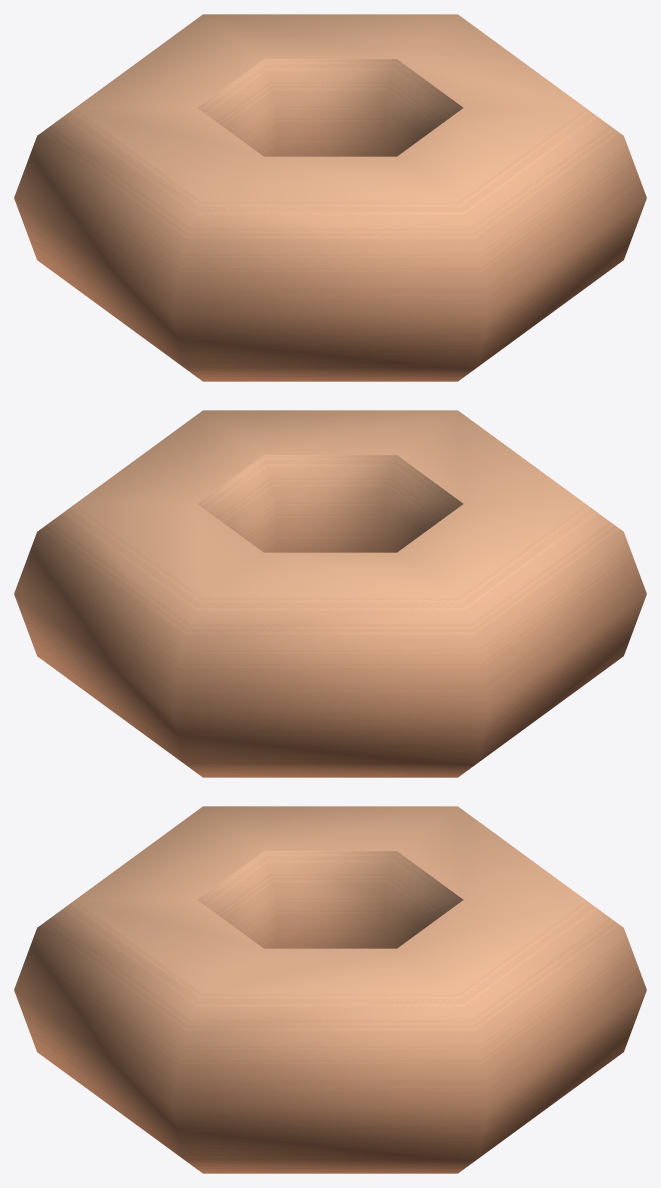
The model's file is donut.glb.
3 views of the same model, one above another, from view 1: azimuth 30°, elevation 25°; view 2: azimuth 150°, elevation 25°; view 3: azimuth 270°, elevation 25° (orthographic).
Parts seen in each view (by area): view 1: donut; view 2: donut; view 3: donut.
Part boxes in pixels (bbox=[...]): donut: bbox=[14, 14, 646, 381]; donut: bbox=[14, 410, 646, 777]; donut: bbox=[14, 806, 646, 1173].
Size of the model in its own units: 0.2451 by 0.0889 by 0.283.
1 material, 1 textured.
